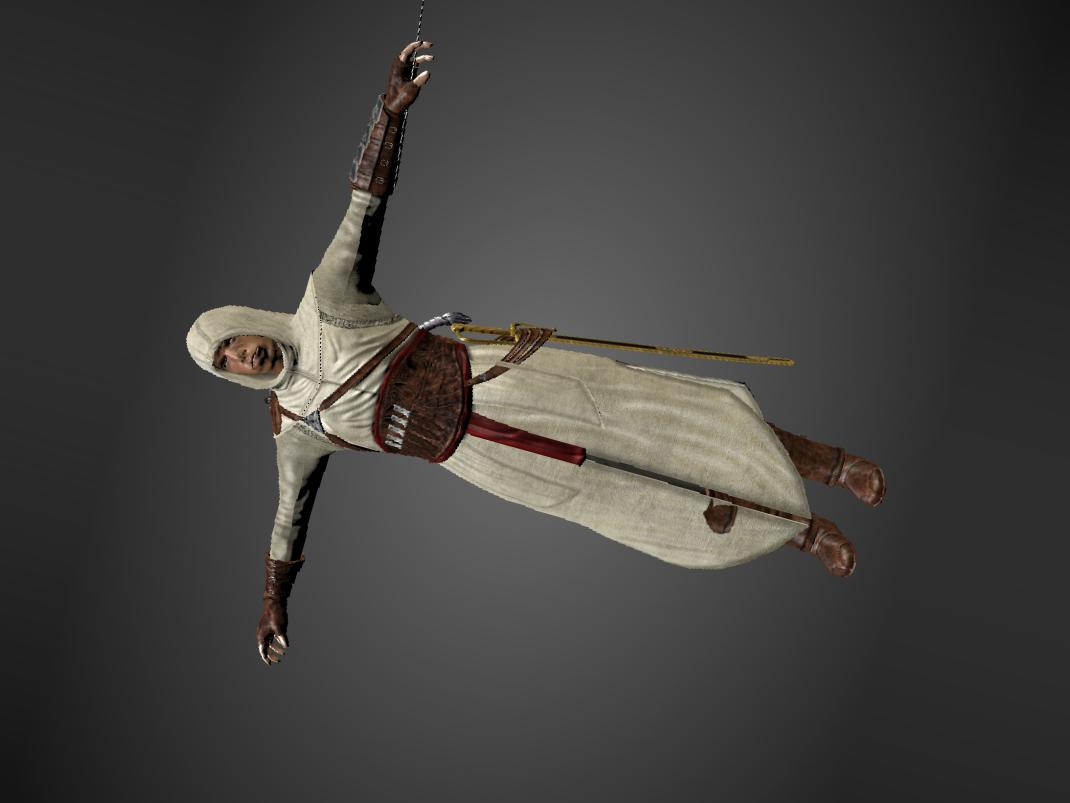clip: (694, 502, 746, 538)
